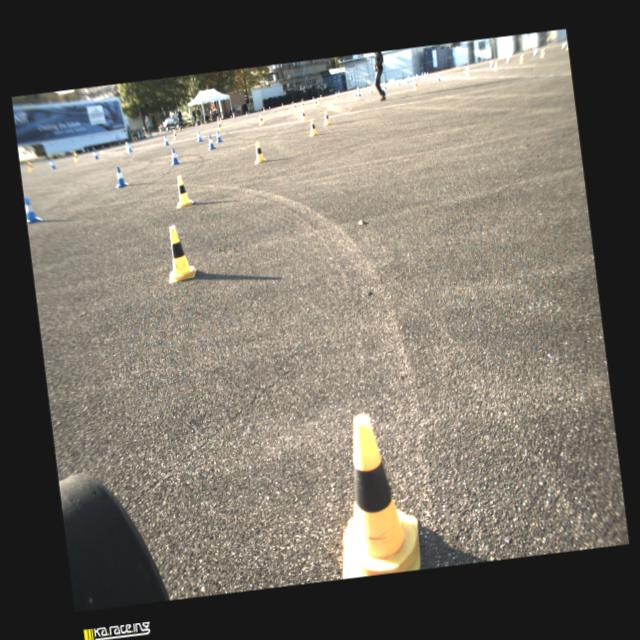blue_cone: (24, 194, 44, 223), (114, 165, 128, 188), (169, 146, 181, 164), (206, 134, 215, 149), (214, 128, 222, 142), (162, 134, 170, 146), (49, 158, 56, 169), (196, 130, 202, 142), (126, 142, 132, 152), (93, 149, 98, 159), (356, 86, 361, 96), (488, 59, 494, 67), (463, 66, 468, 74), (396, 78, 401, 85), (436, 73, 440, 81), (368, 86, 372, 92), (415, 73, 419, 79), (381, 84, 384, 90), (406, 76, 409, 82), (408, 76, 411, 82), (412, 74, 415, 80), (423, 71, 426, 77), (426, 71, 429, 77), (384, 82, 386, 89), (194, 122, 197, 126), (86, 148, 88, 152), (118, 140, 120, 144), (150, 133, 152, 137), (142, 134, 144, 138), (268, 105, 270, 109), (292, 100, 294, 104), (312, 95, 314, 99), (334, 90, 336, 94), (420, 72, 422, 76), (230, 115, 232, 118), (248, 110, 249, 114)
large_orange_cone: (216, 115, 219, 122), (232, 111, 235, 118)
yellow_cone: (323, 409, 422, 579), (162, 223, 196, 282), (172, 174, 193, 208), (252, 140, 266, 163), (307, 118, 318, 136), (322, 110, 331, 126), (299, 108, 306, 122), (256, 114, 264, 126), (27, 159, 33, 171), (73, 151, 79, 162), (172, 130, 178, 140), (216, 121, 222, 131), (352, 90, 358, 100), (412, 79, 418, 89), (492, 60, 498, 70), (518, 54, 524, 63), (539, 48, 545, 57), (465, 68, 470, 78), (313, 98, 318, 107), (124, 142, 128, 150), (292, 103, 296, 111), (316, 96, 320, 104), (335, 92, 339, 100), (300, 101, 304, 108), (564, 43, 568, 50), (388, 78, 392, 84), (366, 85, 369, 92), (280, 102, 284, 107), (219, 116, 222, 122), (371, 84, 374, 90), (352, 88, 354, 96), (319, 93, 322, 98), (109, 142, 111, 148), (245, 110, 247, 116), (262, 106, 264, 112), (372, 83, 374, 89), (200, 121, 202, 126), (338, 89, 340, 94), (357, 84, 359, 89), (82, 148, 84, 152), (157, 132, 159, 136)
